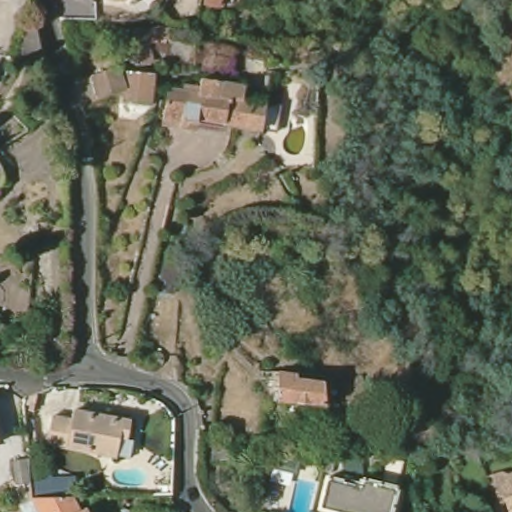pool: (289, 475, 317, 508), (111, 464, 150, 487)
